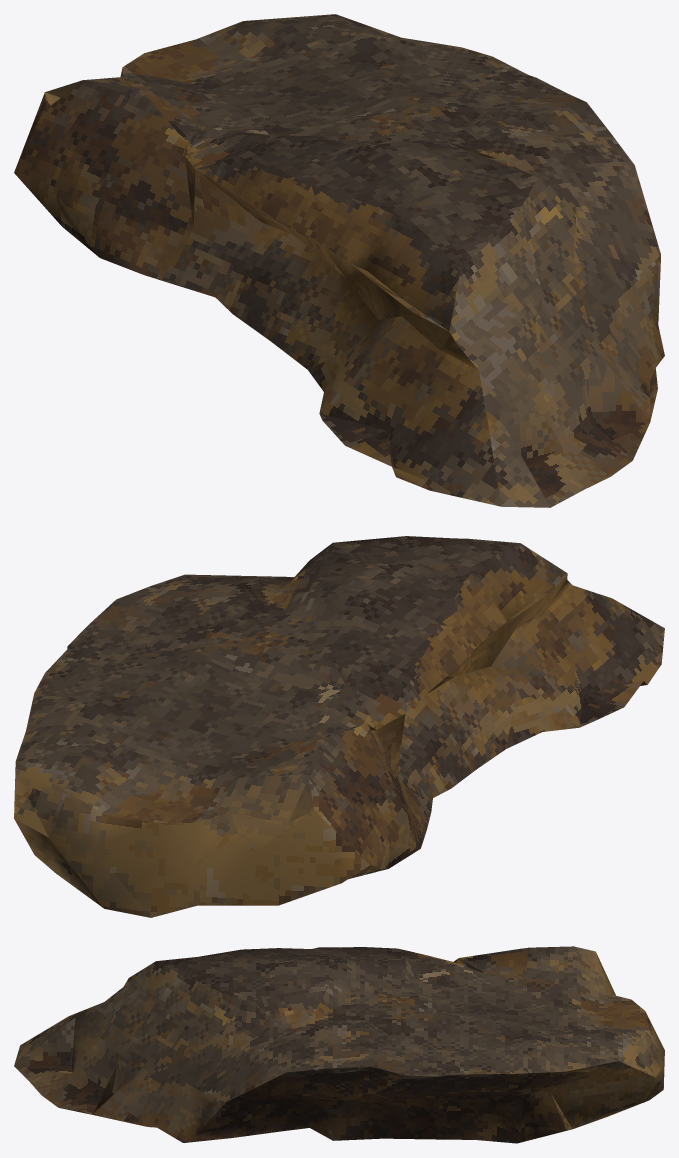
File: rock_09.glb
3 renders of one model, top to bottom at view 1: azimuth 30°, elevation 25°; view 2: azimuth 150°, elevation 25°; view 3: azimuth 270°, elevation 25°, orthographic. The views are drawn at different scales.
Parts seen in each view (by area): view 1: mesh; view 2: mesh; view 3: mesh.
Boxes of the visible parts, x1,y1,x2,y2 form: mesh: (14, 14, 664, 507); mesh: (14, 536, 664, 917); mesh: (14, 946, 664, 1143).
Size of the model in its own units: 0.0784 by 0.0329 by 0.1497.
1 material, 1 textured.
